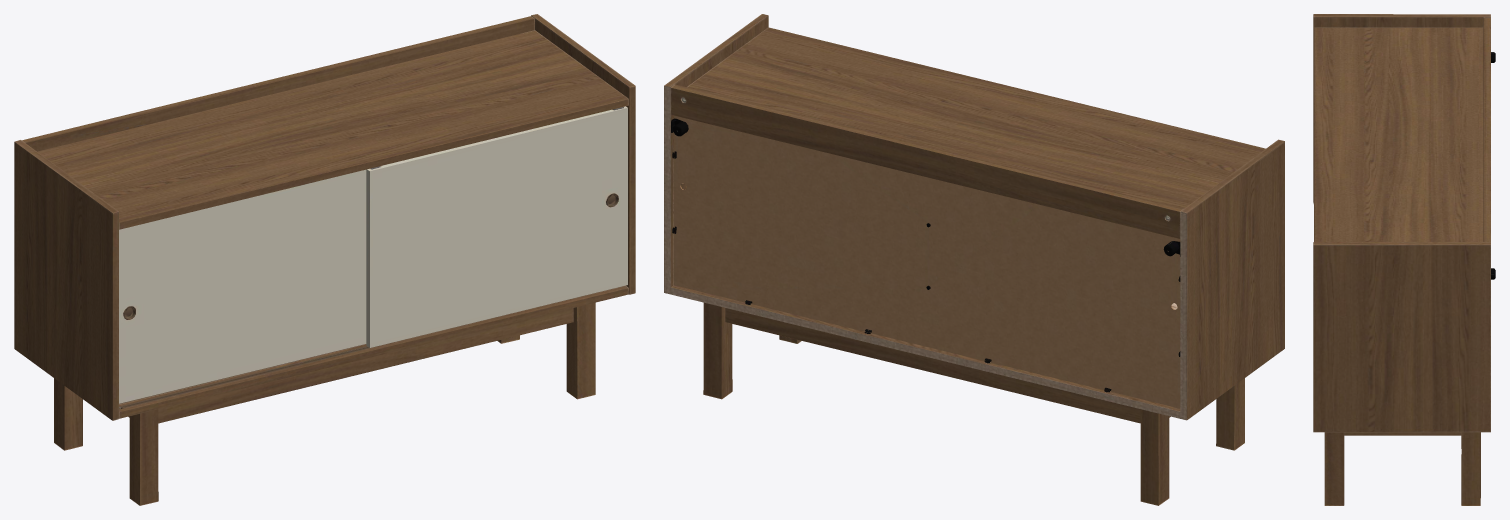
Rendered from forsaljare_kredens_90595888.glb.
The picture shows the model from 3 angles, left to right: view 1: azimuth 30°, elevation 25°; view 2: azimuth 150°, elevation 25°; view 3: azimuth 270°, elevation 25°; orthographic projection. The views are drawn at different scales.
Parts seen in each view (by area): view 1: forsaljare_kredens_90595888; view 2: forsaljare_kredens_90595888; view 3: forsaljare_kredens_90595888.
Part boxes in pixels (x1,y1,x2,y2): forsaljare_kredens_90595888: [14, 14, 635, 505]; forsaljare_kredens_90595888: [664, 14, 1284, 505]; forsaljare_kredens_90595888: [1313, 14, 1495, 505].
Size of the model in its own units: 1.4 by 0.7804 by 0.467.
Materials: 1 (1 with a texture image).
